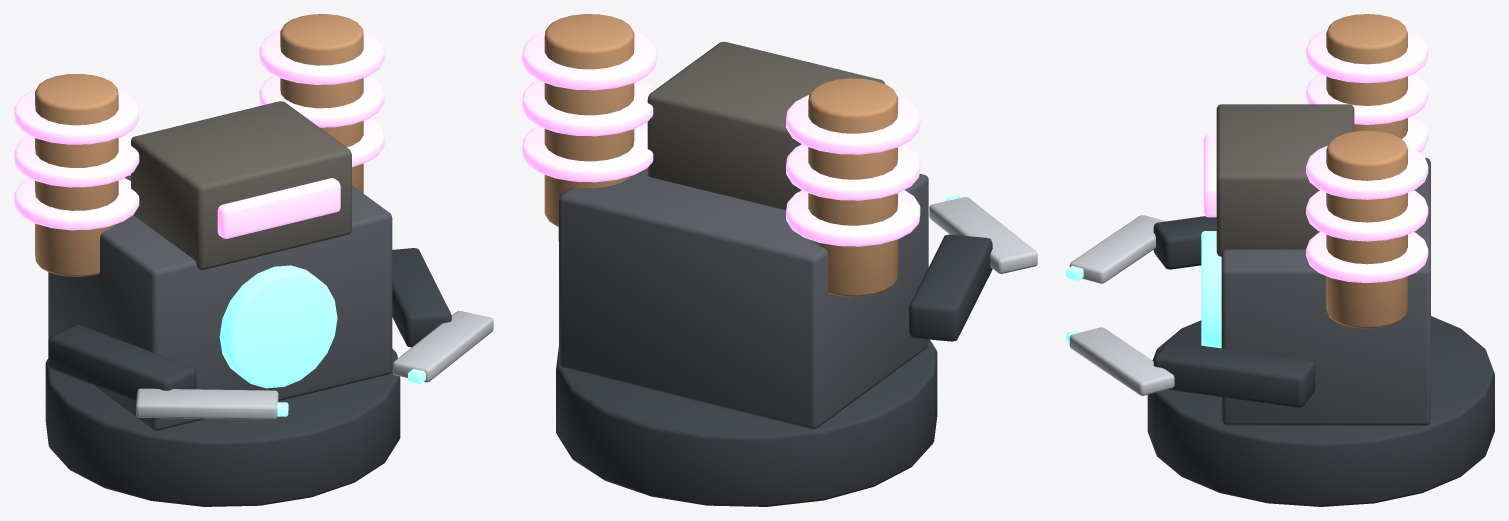
The model's file is enemy_mietitore_voltaico.glb.
3 views of the same model, side by side, from view 1: azimuth 30°, elevation 25°; view 2: azimuth 150°, elevation 25°; view 3: azimuth 270°, elevation 25° (orthographic). The views are drawn at different scales.
Visible parts, largest first — view 1: HarvesterTorso, HoverPlinth, HarvesterHead, CentralReactor, TeslaTower_-1, TeslaTower_1, ScytheArm_-1, VoltaicEye, ScytheBlade_-1, ScytheArm_1, ScytheBlade_1, TeslaCoilRing_1_1.52 (+5 smaller); view 2: HarvesterTorso, HoverPlinth, HarvesterHead, TeslaTower_-1, TeslaTower_1, ScytheArm_-1, TeslaCoilRing_-1_1.52, TeslaCoilRing_1_1.52, TeslaCoilRing_-1_1.34, TeslaCoilRing_-1_1.16, TeslaCoilRing_1_1.34, ScytheBlade_-1 (+1 smaller); view 3: HoverPlinth, HarvesterTorso, HarvesterHead, TeslaTower_1, ScytheArm_1, TeslaTower_-1, ScytheBlade_1, TeslaCoilRing_1_1.52, TeslaCoilRing_-1_1.52, TeslaCoilRing_1_1.34, TeslaCoilRing_1_1.16, ScytheBlade_-1 (+5 smaller).
Boxes of the visible parts, <box> form: HarvesterTorso: <box>48,175,392,430</box>; HoverPlinth: <box>45,348,400,506</box>; HarvesterHead: <box>131,101,351,270</box>; CentralReactor: <box>219,265,337,388</box>; TeslaTower_-1: <box>35,74,118,276</box>; TeslaTower_1: <box>280,14,363,193</box>; ScytheArm_-1: <box>48,324,196,401</box>; VoltaicEye: <box>217,178,340,238</box>; ScytheBlade_-1: <box>136,388,278,419</box>; ScytheArm_1: <box>392,248,451,347</box>; ScytheBlade_1: <box>393,311,493,382</box>; TeslaCoilRing_1_1.52: <box>259,29,384,84</box>; HarvesterTorso: <box>559,168,928,429</box>; HoverPlinth: <box>556,339,937,506</box>; HarvesterHead: <box>647,41,884,210</box>; TeslaTower_-1: <box>808,78,897,296</box>; TeslaTower_1: <box>544,14,634,226</box>; ScytheArm_-1: <box>909,234,992,341</box>; TeslaCoilRing_-1_1.52: <box>786,95,920,154</box>; TeslaCoilRing_1_1.52: <box>522,30,656,90</box>; TeslaCoilRing_-1_1.34: <box>786,144,920,200</box>; TeslaCoilRing_-1_1.16: <box>786,190,920,246</box>; TeslaCoilRing_1_1.34: <box>522,80,653,136</box>; ScytheBlade_-1: <box>929,197,1037,273</box>; HoverPlinth: <box>1147,316,1494,506</box>; HarvesterTorso: <box>1221,157,1430,425</box>; HarvesterHead: <box>1216,104,1354,256</box>; TeslaTower_1: <box>1326,130,1407,328</box>; ScytheArm_1: <box>1153,341,1315,407</box>; TeslaTower_-1: <box>1326,14,1407,139</box>; ScytheBlade_1: <box>1069,327,1174,395</box>; TeslaCoilRing_1_1.52: <box>1306,145,1428,199</box>; TeslaCoilRing_-1_1.52: <box>1306,29,1428,83</box>; TeslaCoilRing_1_1.34: <box>1306,190,1428,241</box>; TeslaCoilRing_1_1.16: <box>1306,232,1428,282</box>; ScytheBlade_-1: <box>1069,215,1165,283</box>.
Size of the model in its own units: 1.63 by 1.52 by 1.68.
